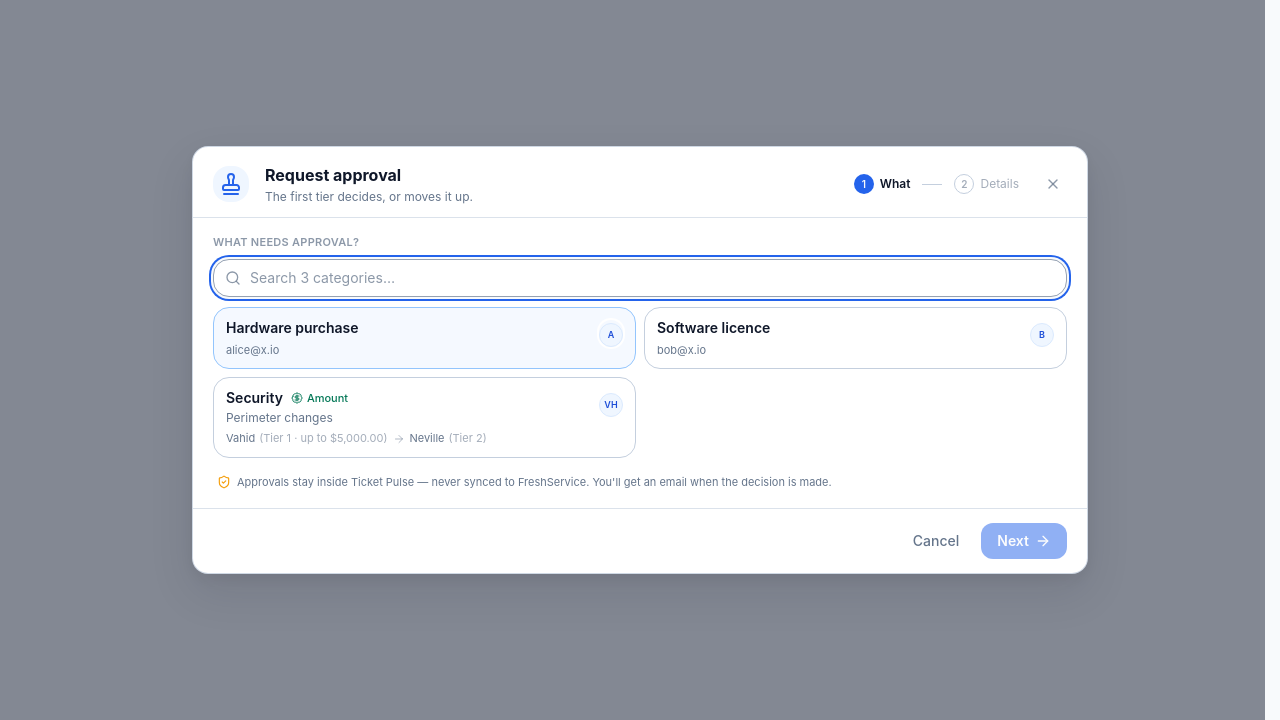
Test: RequestApprovalModal — Approvals v2 › the picker filters as you type and rows show the tier chain
This screenshot has width=1280, height=720.
Expected: the number of options is 3, [213, 307, 636, 369]; [644, 307, 1067, 369]; [213, 377, 636, 458]
Type "sec" into the dropdown named "Approval category" at coordinates (640, 278), box [213, 259, 1067, 297]
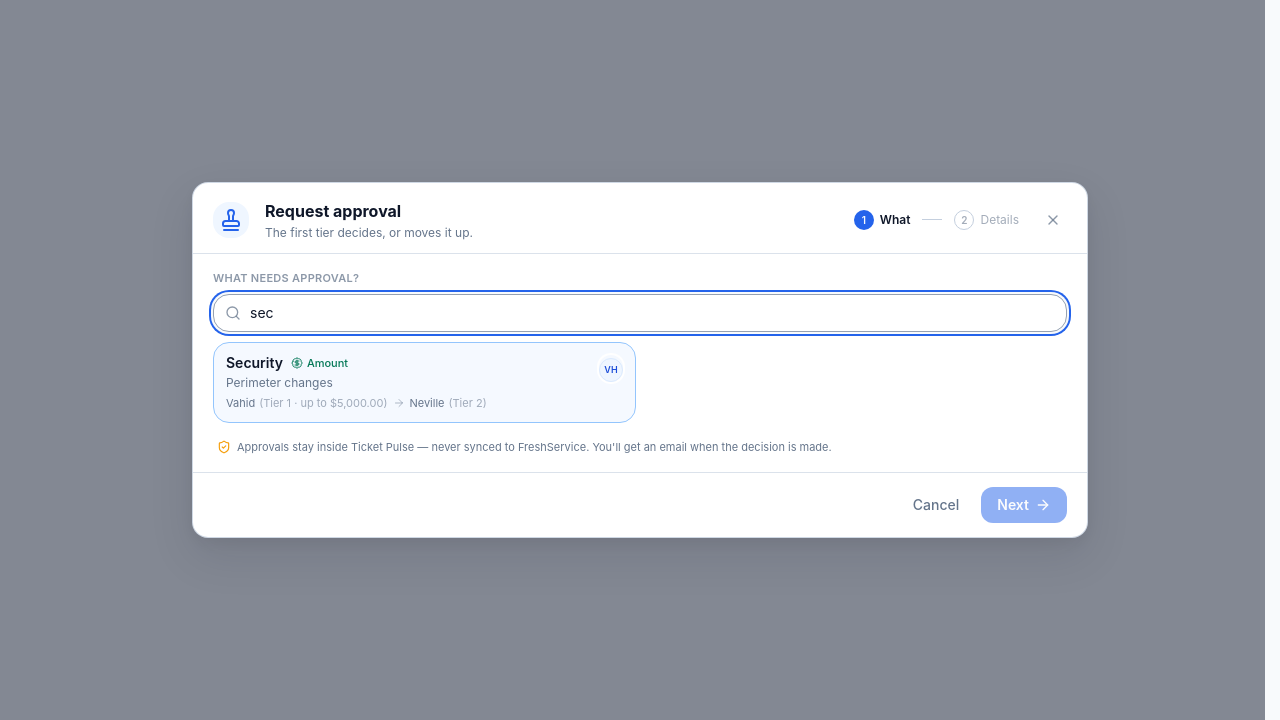
Expected: the number of options is 1, [213, 342, 636, 423]
Replace the text in the dropdown named "Approval category" with "zzz" at coordinates (640, 313), box [213, 294, 1067, 332]
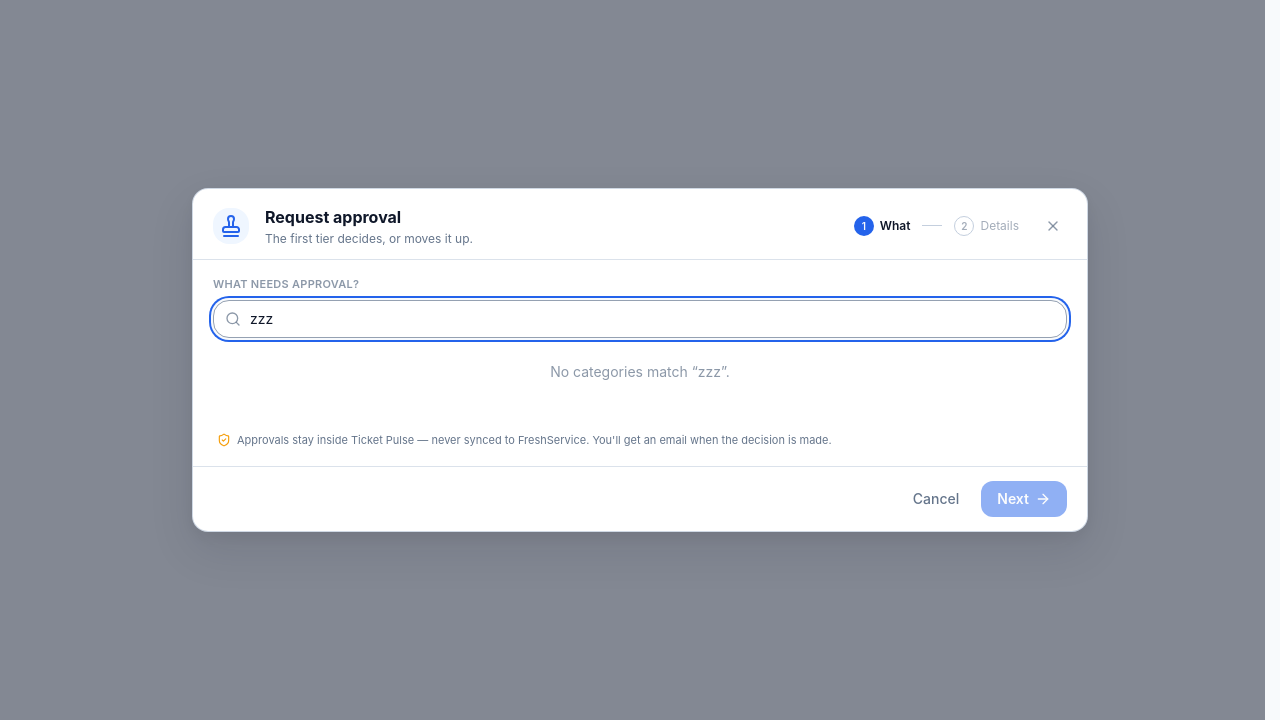
Expected: the text "No categories match “zzz”." is shown, [550, 363, 730, 380]
